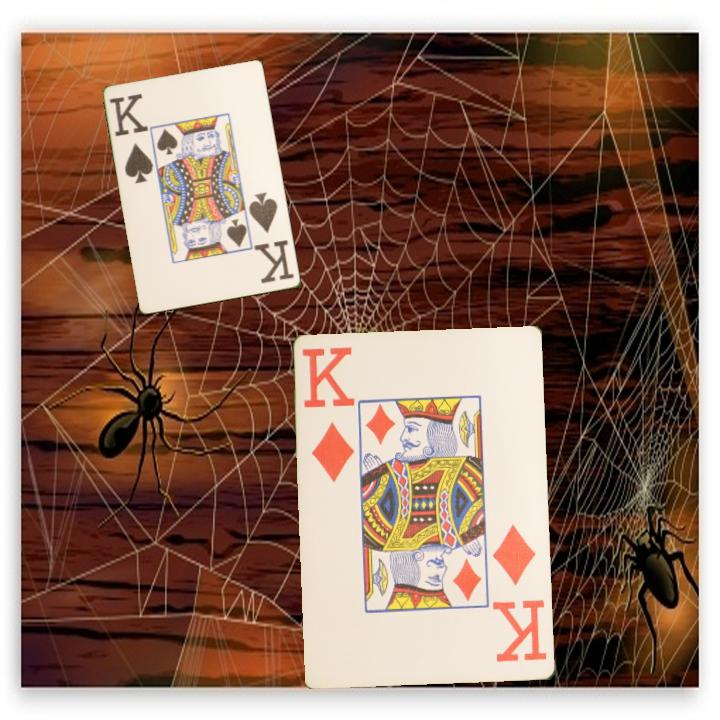Kd: (490, 522, 550, 665), (298, 344, 358, 486)
Ks: (245, 189, 297, 286), (106, 90, 156, 187)
